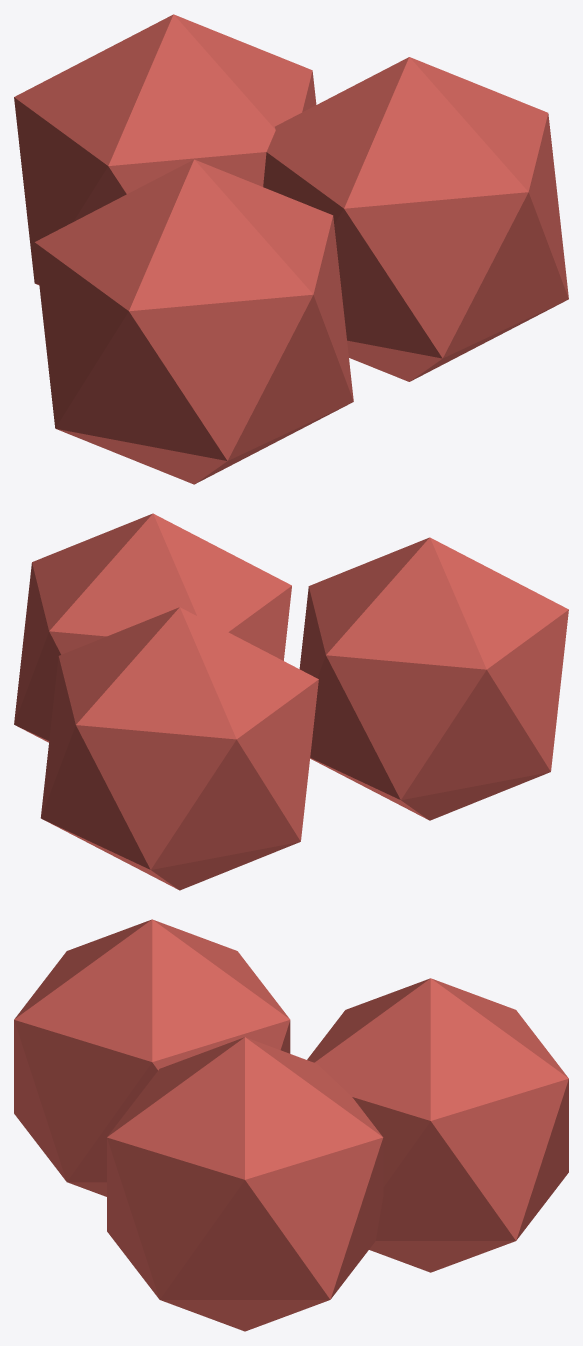
Rendered from frutas.glb.
3 renders of one model, top to bottom at view 1: azimuth 30°, elevation 25°; view 2: azimuth 150°, elevation 25°; view 3: azimuth 270°, elevation 25°, orthographic. The views are drawn at different scales.
Visible parts, largest first — view 1: frutas; view 2: frutas; view 3: frutas.
Boxes of the visible parts, x1,y1,x2,y2 form: frutas: (14,14,568,484); frutas: (14,513,568,890); frutas: (14,919,568,1331).
Bounding box in the file's own units: 0.1226 × 0.07 × 0.1195.
